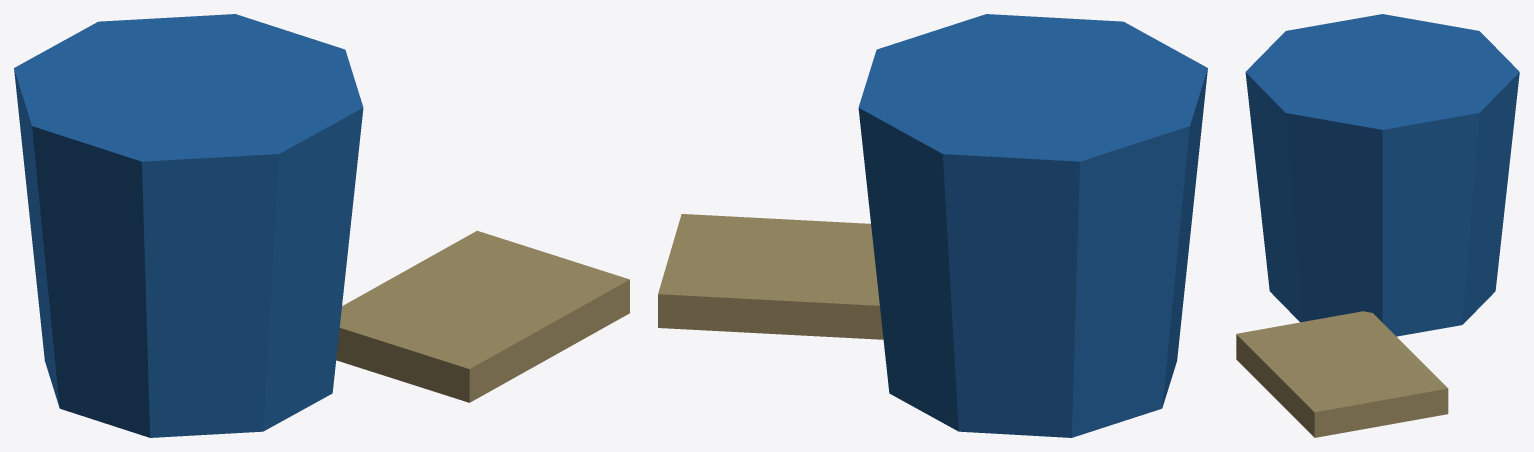
Rendered from prop_leak-bucket.09d642113298.glb.
3 renders of one model, left to right at view 1: azimuth 30°, elevation 25°; view 2: azimuth 150°, elevation 25°; view 3: azimuth 270°, elevation 25°, orthographic. The views are drawn at different scales.
Visible parts, largest first — view 1: body; view 2: body; view 3: body.
Part boxes in pixels (x1,y1,x2,y2): body: [14, 14, 629, 437]; body: [658, 14, 1207, 437]; body: [1236, 14, 1519, 437].
Bounding box in the file's own units: 0.6002 × 0.3 × 0.3516.
